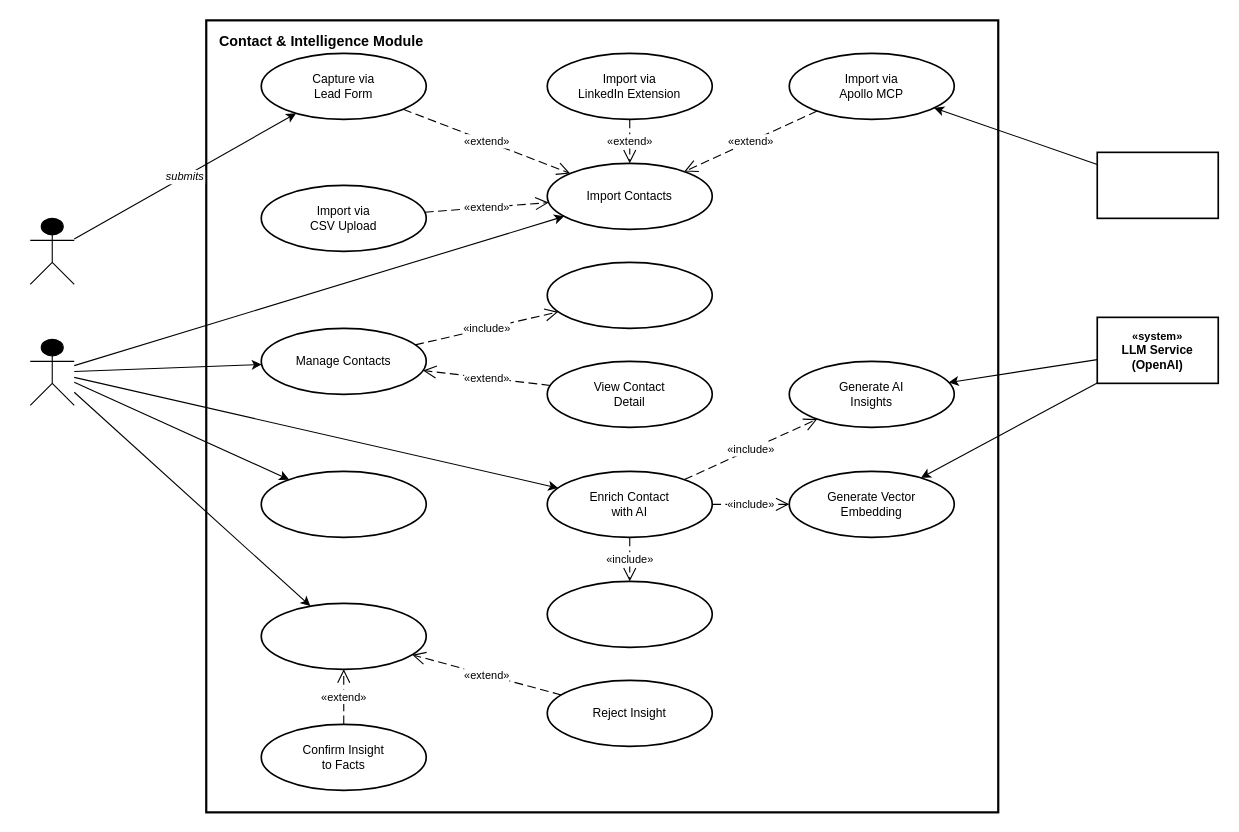
Some shapes in this 1239 by 832 pixel diagram are drawn without their labels. Each missing label, with the centre of its shape:
BD (Sales Rep): [51,371]
Calculate Segment Scores: [629,614]
Prospect: [51,250]
Search & Filter Contacts: [629,295]
Upload Knowledge Documents: [343,504]
Validate AI Insight: [343,636]
«system» Apollo API (MCP): [1157,185]
